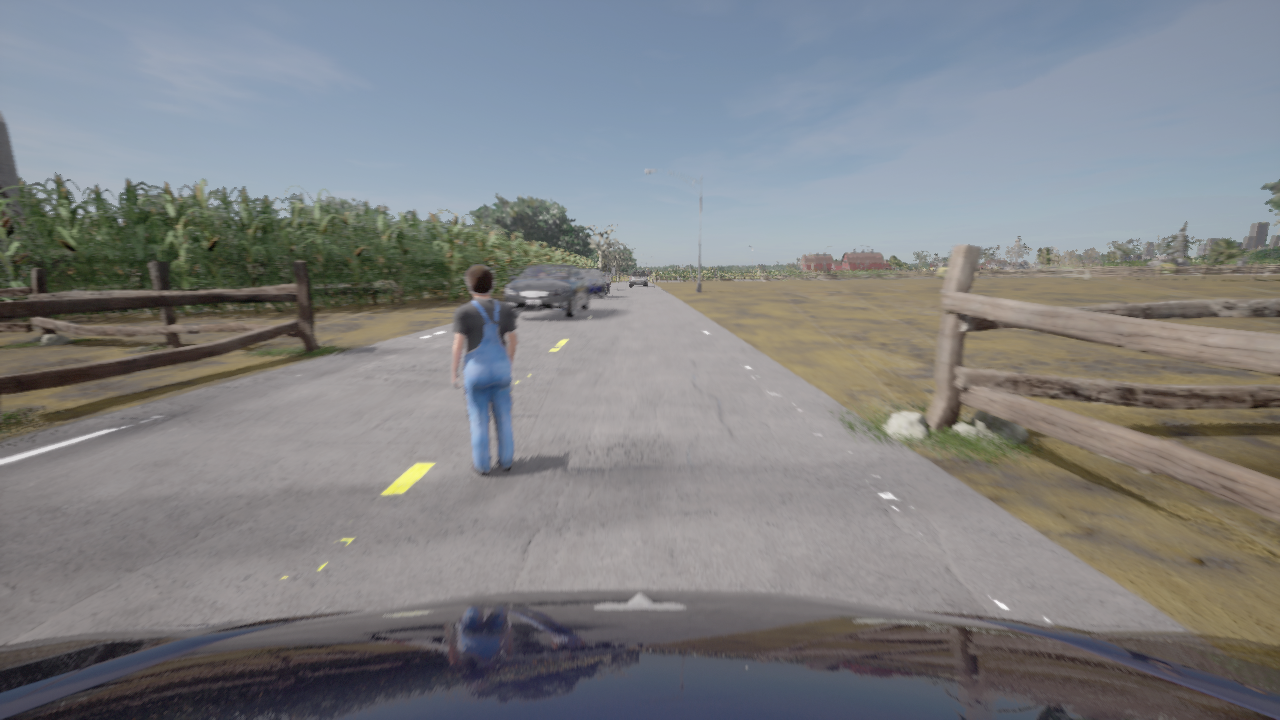cyclist: (0, 588, 1279, 719), (504, 264, 589, 317), (579, 269, 608, 297), (629, 271, 646, 286), (605, 275, 609, 284)
pedestrian: (452, 264, 517, 476)
